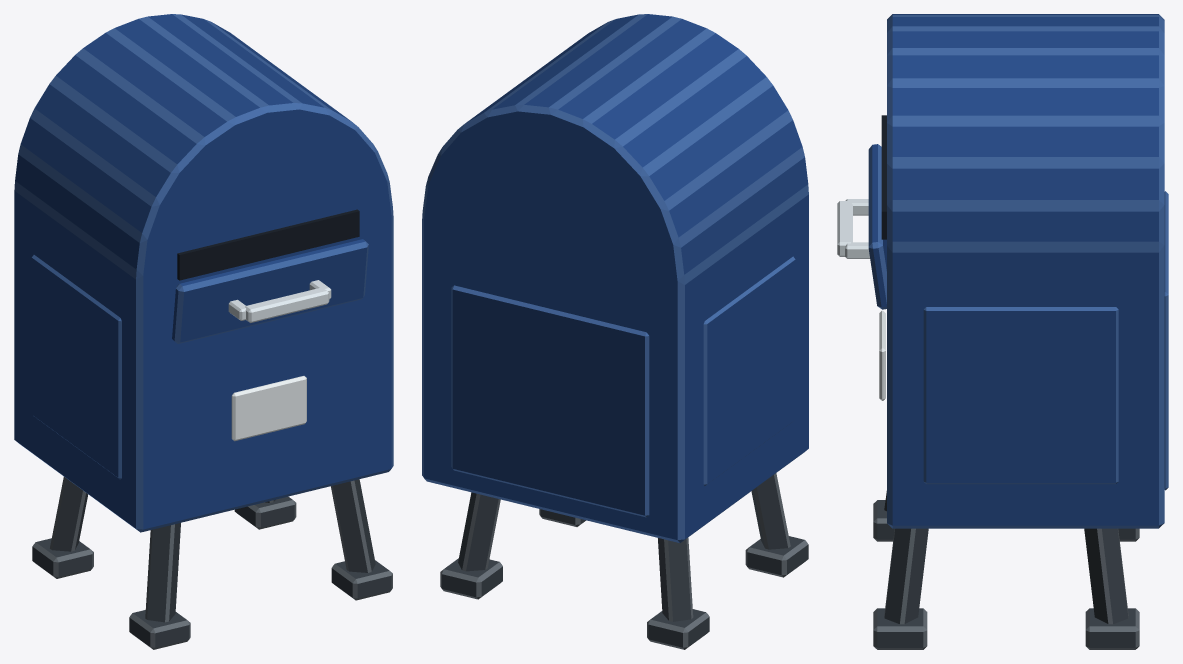
File: street_mailbox.fbx
3 renders of one model, left to right at view 1: azimuth 30°, elevation 25°; view 2: azimuth 150°, elevation 25°; view 3: azimuth 270°, elevation 25°, orthographic. The views are drawn at different scales.
Visible parts, largest first — view 1: StreetMailbox; view 2: StreetMailbox; view 3: StreetMailbox.
Part boxes in pixels (x1,y1,x2,y2): StreetMailbox: [14, 14, 393, 649]; StreetMailbox: [422, 14, 808, 649]; StreetMailbox: [837, 14, 1168, 649].
Bounding box in the file's own units: 0.392 × 0.728 × 0.392.
